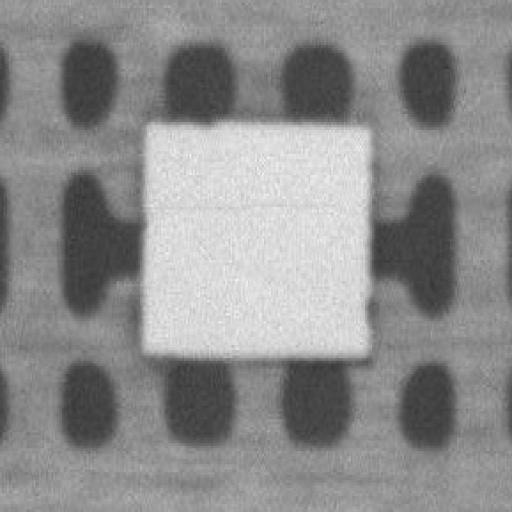DIE_CRACK: (149, 191, 317, 212)
